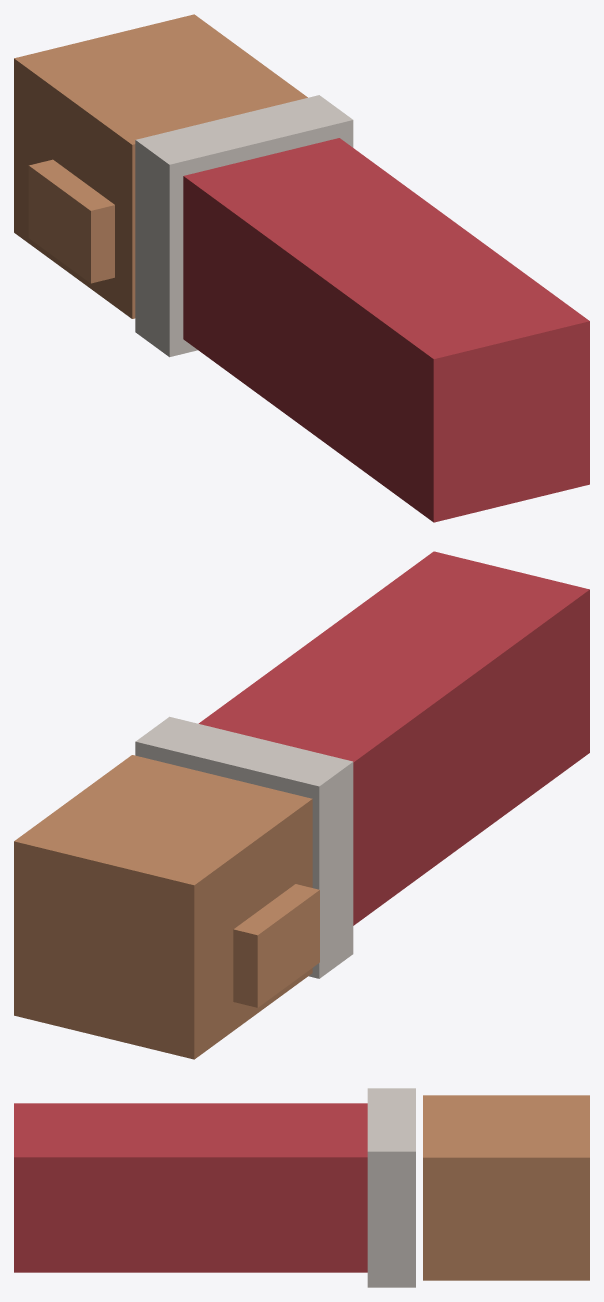
The model's file is hands.glb.
3 views of the same model, one above another, from view 1: azimuth 30°, elevation 25°; view 2: azimuth 150°, elevation 25°; view 3: azimuth 270°, elevation 25° (orthographic). The views are drawn at different scales.
Visible parts, largest first — view 1: Hands; view 2: Hands; view 3: Hands.
Boxes of the visible parts, x1,y1,x2,y2 form: Hands: [14, 14, 589, 522]; Hands: [14, 551, 589, 1059]; Hands: [14, 1088, 589, 1287].
Bounding box in the file's own units: 0.119 × 0.106 × 0.407.
